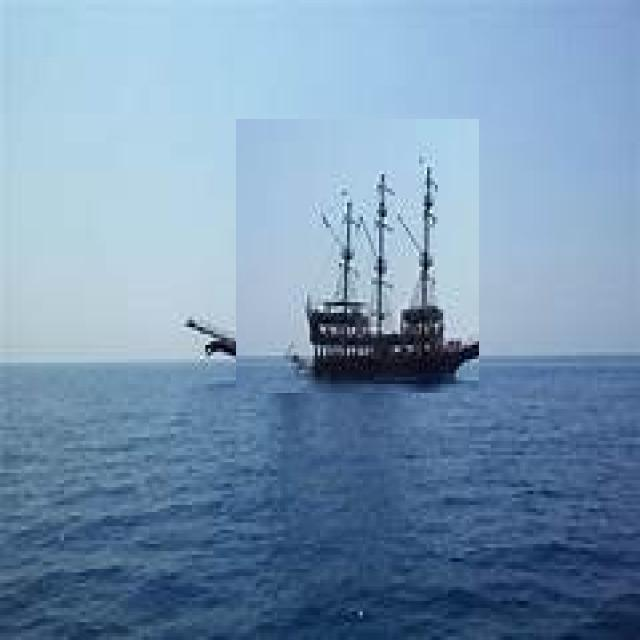Fishing Boat: (236, 119, 479, 393)
